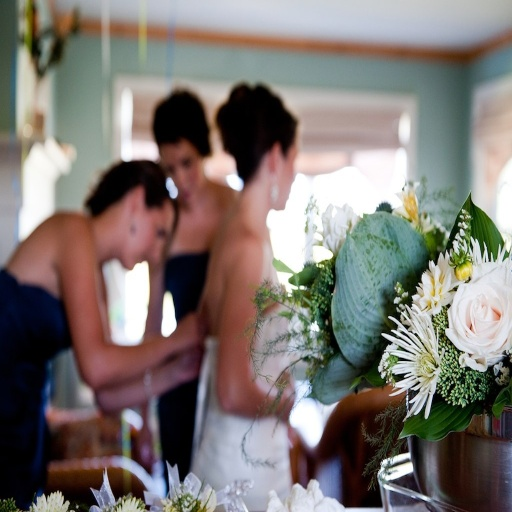hand: (168, 343, 204, 385), (274, 368, 296, 428), (172, 314, 201, 344)
